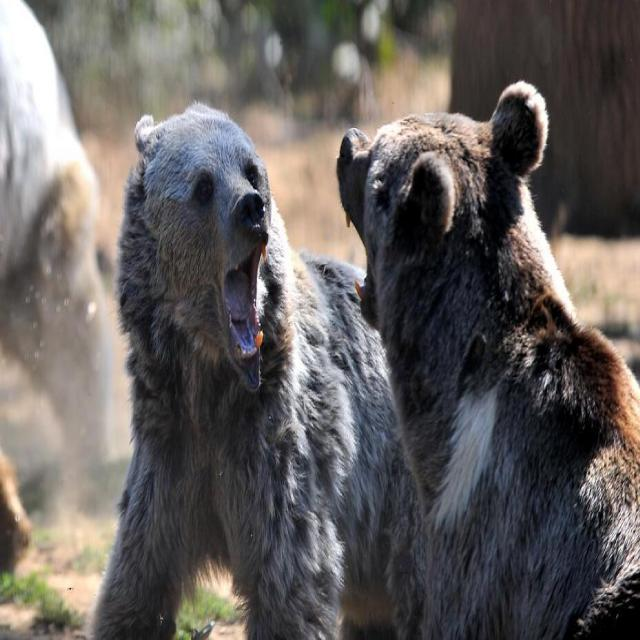Bear: (87, 104, 435, 640), (335, 82, 640, 640)
